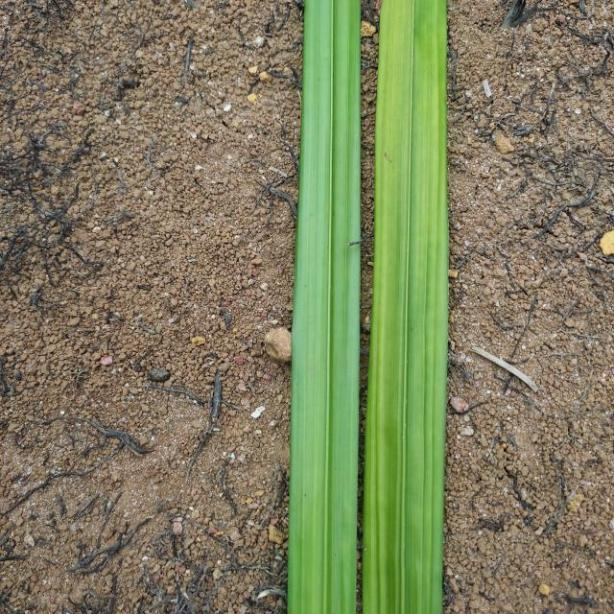nitrogen: (372, 0, 451, 614), (284, 0, 360, 614)
